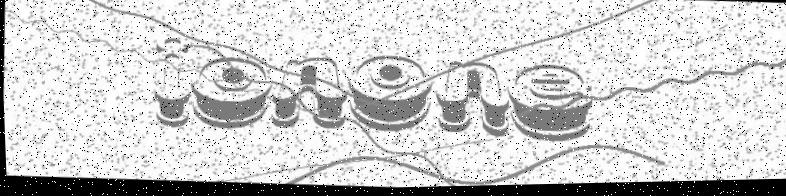e: (505, 64, 594, 147)
i: (148, 36, 194, 129)
n: (430, 60, 513, 141), (267, 54, 349, 135)
o: (344, 53, 434, 137), (189, 56, 274, 133)
